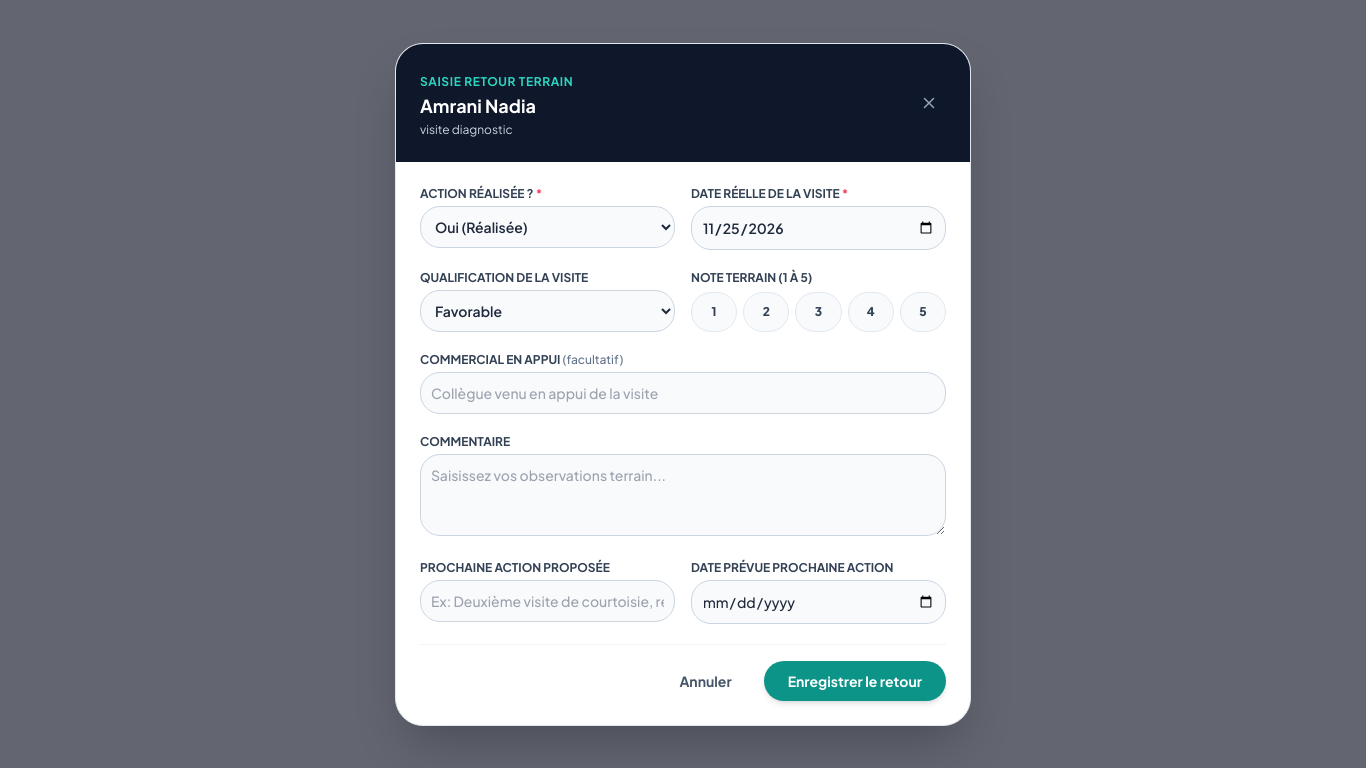
Test: ModalSaisieRetour conditional requirements › requires a comment for an unfavorable qualification
Later steps or results of the test are not shown.
Select "Défavorable" in the dropdown below "Qualification de la visite": (548, 310) [420,290,675,332]
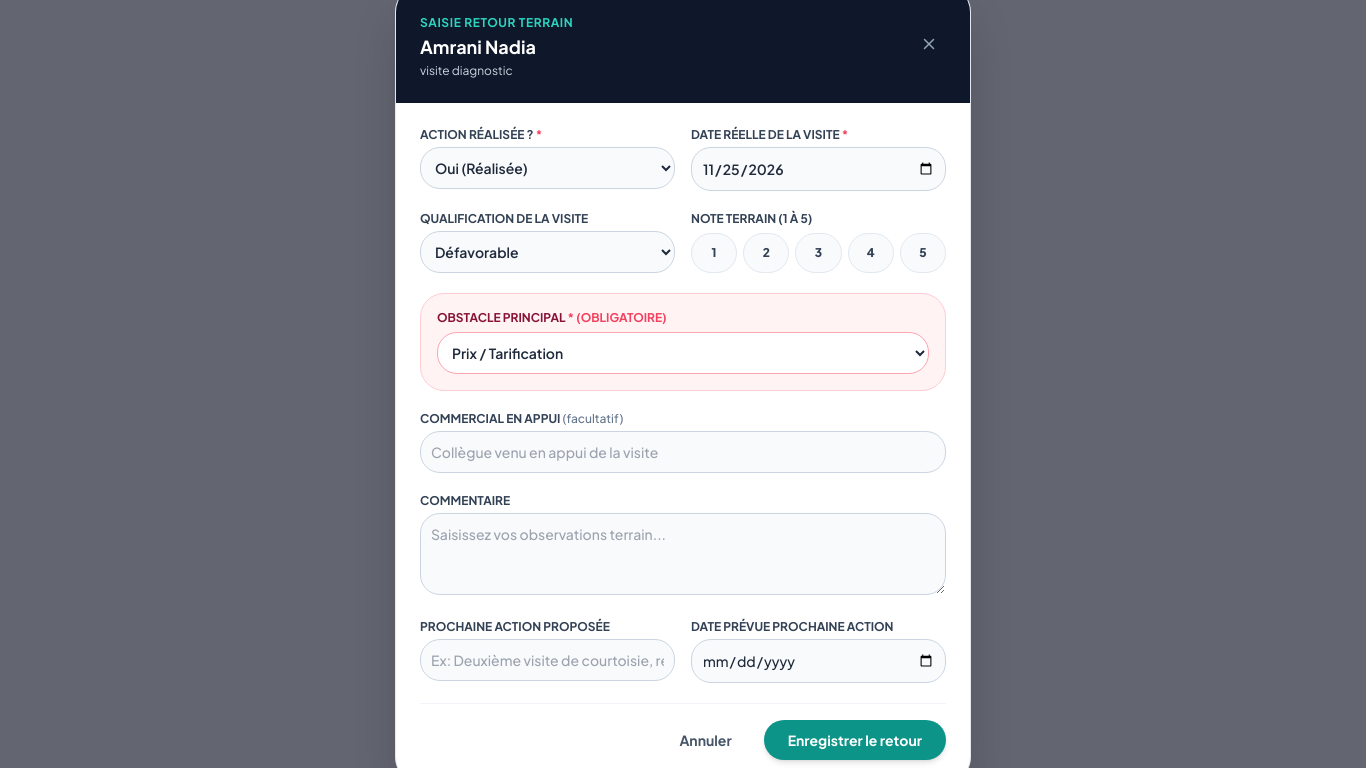
Click the button "Enregistrer le retour": (855, 740) [764,720,946,760]
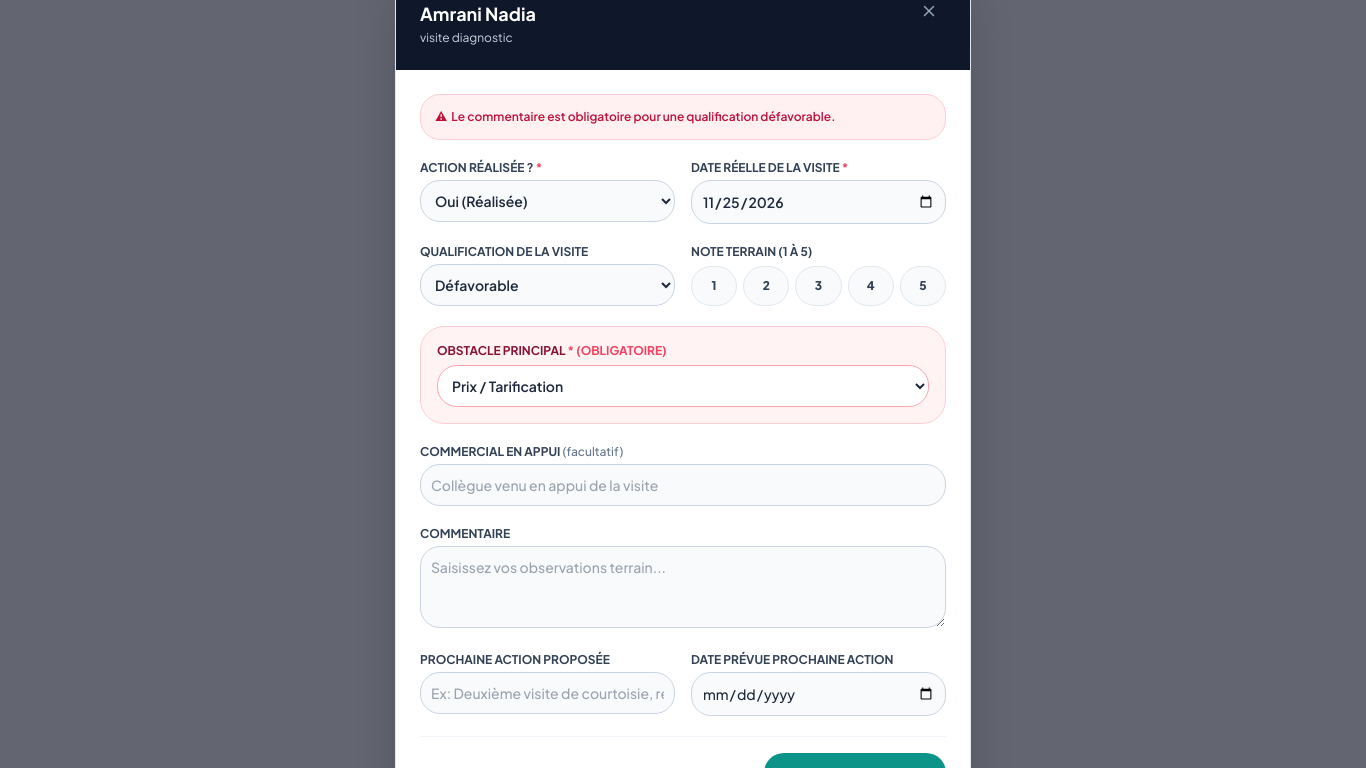
Expected: the text "Le commentaire est obligatoire pour une qualification défavorable." is shown, [451,108,835,124]
